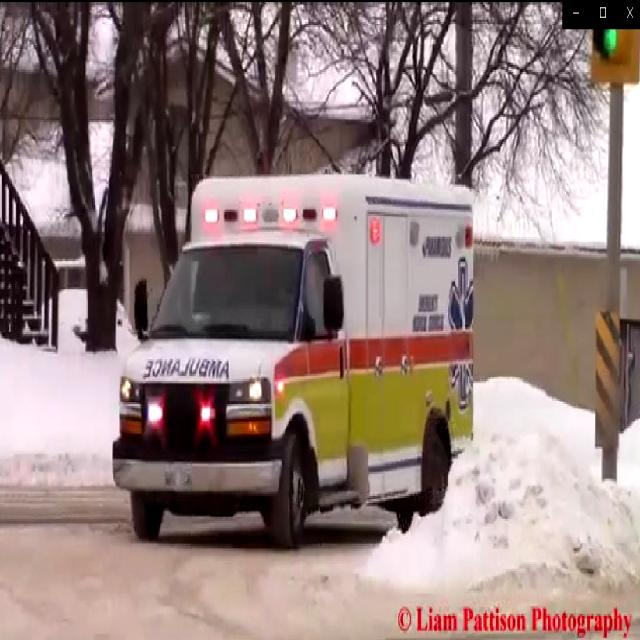emergency: (106, 167, 487, 553)
